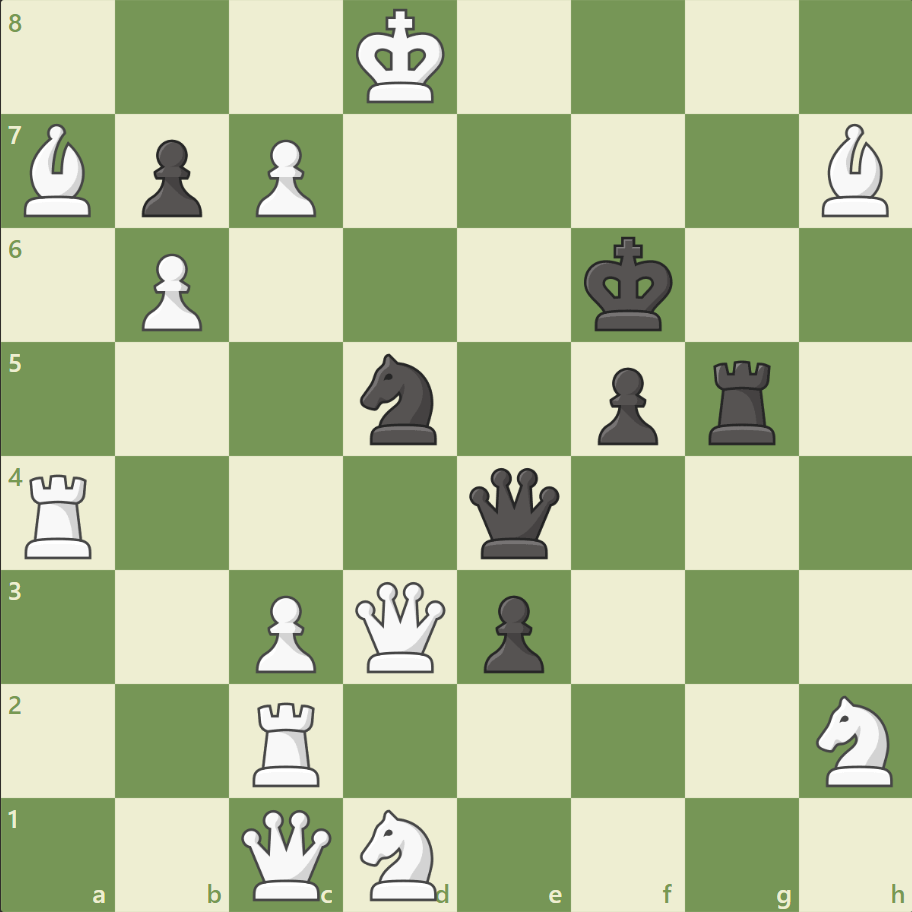B: (17, 120, 101, 222), (812, 120, 896, 222)
K: (351, 4, 451, 112)
N: (351, 802, 449, 904), (806, 688, 903, 791)
P: (247, 132, 322, 223), (133, 246, 208, 337), (247, 586, 322, 677)
Q: (351, 576, 450, 676), (237, 804, 336, 903)
R: (19, 466, 102, 563), (246, 693, 329, 790)
k: (579, 231, 679, 339)
n: (351, 348, 449, 450)
p: (133, 132, 208, 223), (474, 586, 549, 677), (588, 359, 662, 450)
q: (464, 463, 563, 562)
r: (700, 352, 783, 449)
